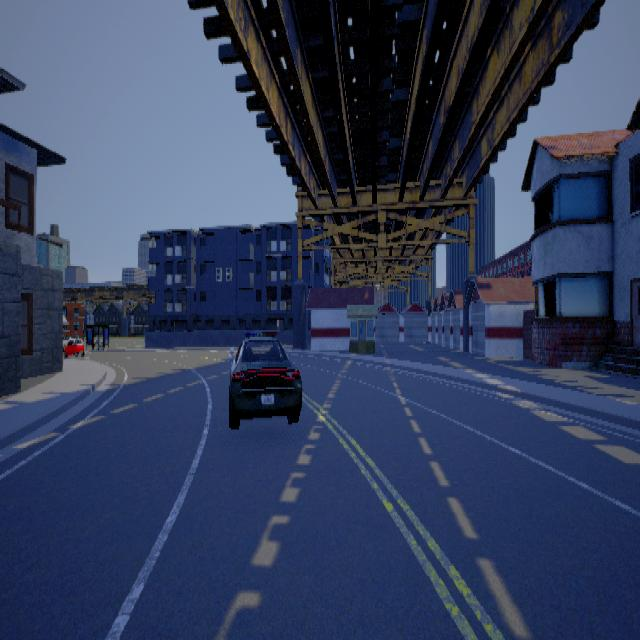vehicle: (228, 330, 304, 428)
